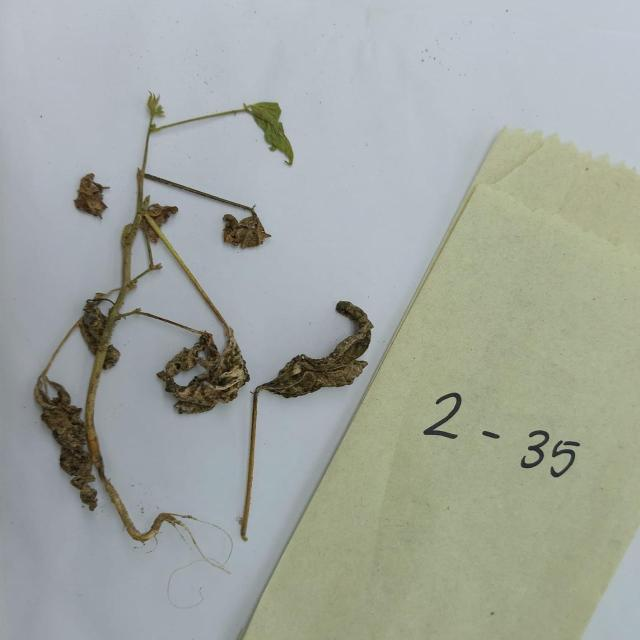Root: (130, 496, 270, 608)
Stem: (82, 365, 114, 481), (126, 116, 152, 204), (102, 292, 132, 368), (115, 204, 139, 293), (133, 115, 249, 132)
healty_leaves: (241, 92, 305, 162)
rooten_leaf: (260, 296, 376, 398), (31, 372, 99, 516), (156, 330, 244, 413), (77, 290, 124, 373), (221, 196, 268, 252), (70, 169, 113, 222), (138, 197, 176, 246)
